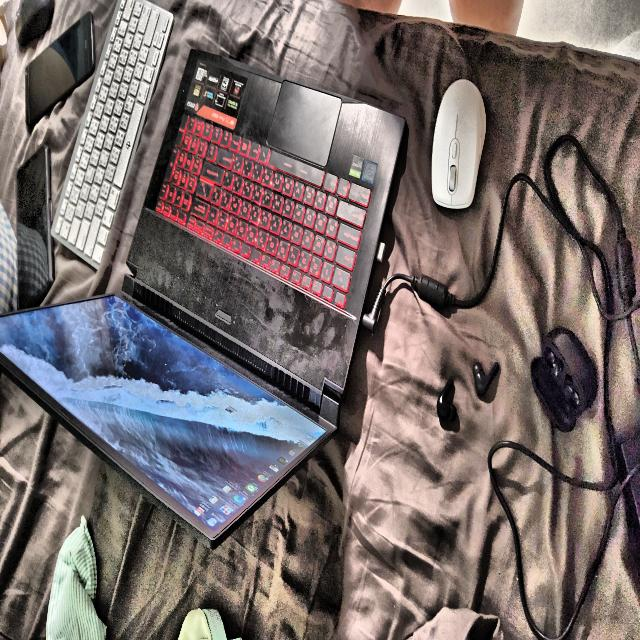Bluetooth headphones: (530, 327, 597, 431), (472, 362, 500, 400), (437, 378, 457, 421)
Keyboard: (52, 0, 173, 267)
Laptop: (0, 50, 404, 547)
MOUSE: (16, 0, 54, 48), (477, 92, 486, 136)
PHONE: (25, 12, 96, 130), (16, 145, 54, 303)
